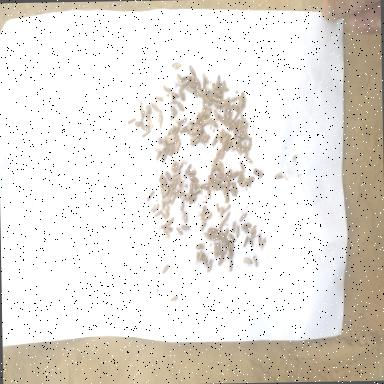pbw: (214, 156, 222, 172), (211, 134, 220, 148), (140, 129, 151, 140), (166, 125, 176, 136), (238, 96, 244, 114), (217, 255, 226, 267), (228, 243, 234, 260), (164, 218, 174, 228), (252, 168, 262, 178), (242, 256, 252, 266), (145, 117, 154, 128), (239, 210, 248, 221), (161, 264, 170, 275), (238, 116, 244, 132), (148, 204, 160, 212), (252, 252, 258, 268), (216, 207, 224, 219), (272, 172, 284, 180), (164, 170, 172, 182), (180, 224, 192, 232), (189, 66, 197, 78), (201, 258, 208, 271), (204, 95, 212, 106), (146, 190, 154, 201), (207, 259, 213, 273), (260, 238, 266, 252), (182, 210, 188, 224), (211, 116, 218, 128), (184, 164, 192, 174), (240, 226, 250, 234), (201, 182, 211, 190), (229, 233, 237, 243), (188, 174, 198, 182), (162, 230, 170, 240), (172, 61, 182, 69), (214, 85, 224, 93), (216, 113, 224, 123), (134, 122, 144, 130), (192, 186, 202, 194), (161, 188, 169, 198), (174, 142, 180, 155), (170, 193, 176, 206), (240, 161, 246, 174), (226, 111, 233, 122), (201, 252, 208, 263), (177, 178, 184, 189), (218, 221, 225, 232), (242, 118, 248, 130), (226, 138, 232, 150), (242, 130, 250, 139), (156, 110, 162, 122), (144, 104, 150, 116), (170, 160, 176, 172), (170, 106, 178, 115), (248, 237, 255, 247), (202, 135, 209, 145), (168, 296, 178, 303), (213, 96, 223, 103), (218, 182, 225, 192), (244, 146, 249, 160), (247, 138, 252, 152), (224, 212, 231, 222), (241, 92, 246, 106), (236, 144, 243, 154), (194, 78, 201, 88), (231, 112, 238, 122), (195, 244, 206, 250), (164, 134, 175, 140), (222, 238, 228, 249), (241, 222, 252, 228), (180, 90, 186, 101), (163, 227, 174, 233), (175, 228, 183, 236), (246, 158, 254, 166), (201, 119, 209, 127), (154, 210, 162, 218), (190, 128, 198, 136), (202, 74, 210, 82), (204, 232, 212, 240), (180, 80, 188, 88), (192, 138, 200, 146), (162, 85, 170, 93), (204, 212, 212, 220), (172, 170, 180, 178), (249, 225, 256, 234), (227, 123, 234, 132), (230, 188, 237, 197), (156, 152, 162, 162), (169, 186, 174, 198), (154, 96, 164, 102), (169, 144, 174, 156), (220, 150, 226, 160), (176, 74, 182, 84), (226, 98, 231, 110), (178, 102, 184, 112), (220, 230, 225, 242), (207, 188, 212, 200), (174, 192, 186, 197), (184, 194, 191, 202), (232, 104, 239, 112), (224, 204, 231, 212), (160, 213, 168, 220), (180, 126, 188, 133), (232, 138, 236, 152), (228, 240, 232, 254), (127, 118, 135, 125), (231, 95, 239, 102), (250, 231, 258, 238), (225, 179, 230, 190), (138, 101, 143, 112), (200, 220, 205, 231), (197, 88, 203, 97), (222, 135, 228, 144), (222, 171, 228, 180), (258, 234, 262, 247), (224, 98, 228, 111), (166, 205, 170, 218), (160, 115, 164, 128), (242, 178, 247, 188), (158, 225, 168, 230), (229, 260, 233, 272), (222, 80, 226, 92), (167, 138, 175, 144), (225, 240, 229, 252), (171, 92, 179, 98), (244, 235, 248, 247), (202, 78, 206, 90), (188, 198, 196, 204), (236, 225, 240, 237), (212, 90, 220, 96), (233, 125, 237, 137), (232, 172, 240, 178), (232, 222, 236, 234), (238, 134, 246, 140), (178, 118, 186, 124), (217, 102, 225, 108), (199, 250, 203, 262), (173, 188, 182, 193), (186, 88, 195, 93), (160, 201, 164, 212), (140, 110, 144, 121), (180, 201, 184, 212), (213, 101, 219, 108), (205, 86, 212, 92), (195, 252, 199, 262), (191, 75, 195, 85), (160, 199, 170, 203), (237, 176, 242, 184), (188, 170, 196, 175), (213, 110, 218, 118), (216, 203, 220, 213), (224, 228, 228, 238), (178, 162, 182, 171), (216, 75, 220, 84), (210, 171, 213, 182), (212, 182, 216, 190), (154, 148, 162, 152), (228, 170, 232, 178), (207, 108, 211, 116), (228, 104, 232, 112), (244, 183, 248, 191), (196, 183, 201, 189), (216, 151, 222, 156), (189, 121, 196, 125), (168, 182, 174, 185)
